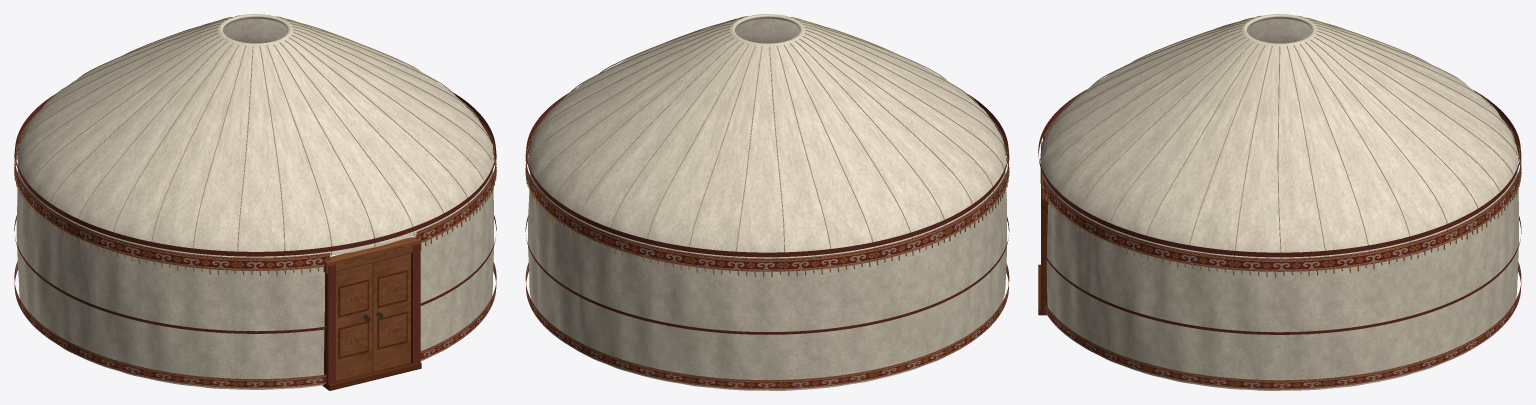
The model's file is yurt-without-tunduk.glb.
3 renders of one model, left to right at view 1: azimuth 30°, elevation 25°; view 2: azimuth 150°, elevation 25°; view 3: azimuth 270°, elevation 25°, orthographic.
Parts seen in each view (by area): view 1: Kyrgyz yurt with open roof aperture, Entrance_Right_Hinge, Entrance_Left_Hinge; view 2: Kyrgyz yurt with open roof aperture; view 3: Kyrgyz yurt with open roof aperture.
Boxes of the visible parts, x1,y1,x2,y2 form: Kyrgyz yurt with open roof aperture: (14, 14, 496, 390); Entrance_Right_Hinge: (372, 253, 410, 371); Entrance_Left_Hinge: (336, 263, 372, 380); Kyrgyz yurt with open roof aperture: (525, 14, 1009, 390); Kyrgyz yurt with open roof aperture: (1038, 14, 1521, 390).
Size of the model in its own units: 6.26 by 3.77 by 6.25.
10 materials, 8 textured.
